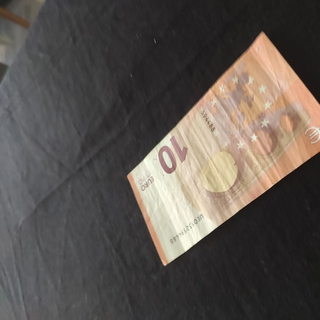10EUROBack: (126, 30, 320, 266)
